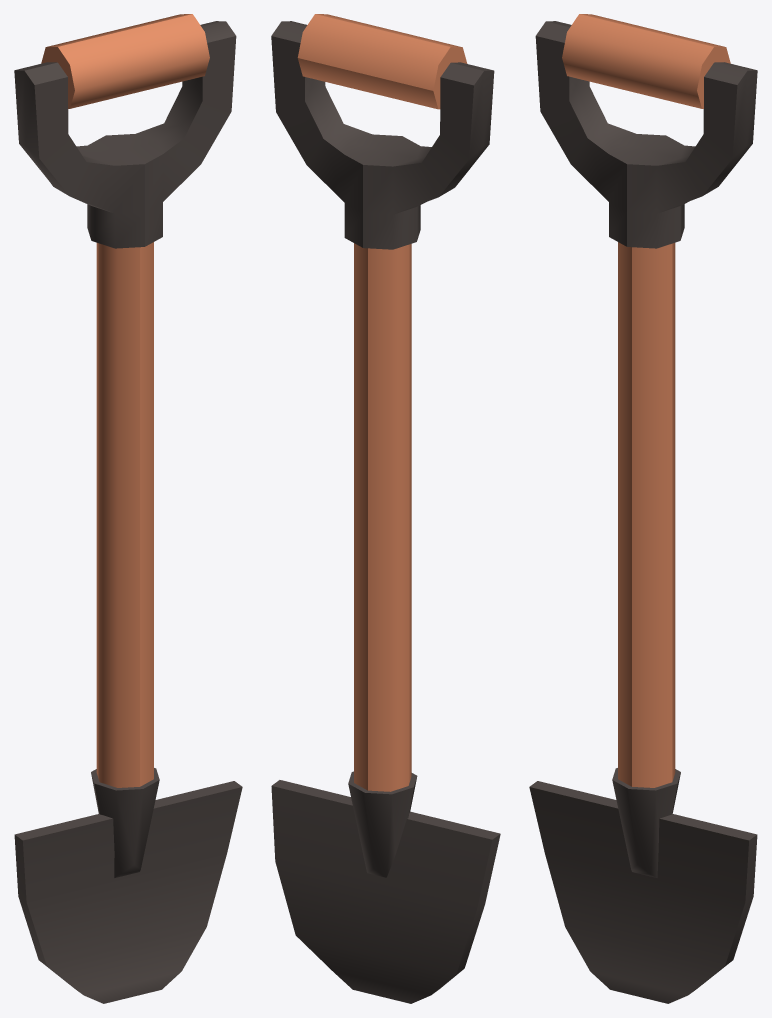
3 renders of one model, left to right at view 1: azimuth 30°, elevation 25°; view 2: azimuth 150°, elevation 25°; view 3: azimuth 330°, elevation 25°, orthographic.
Visible parts, largest first — view 1: pa; view 2: pa; view 3: pa.
Part boxes in pixels (bbox=[...]): pa: bbox=[14, 14, 242, 1003]; pa: bbox=[271, 14, 500, 1003]; pa: bbox=[529, 14, 757, 1003].
Size of the model in its own units: 67.47 by 282 by 20.82.
